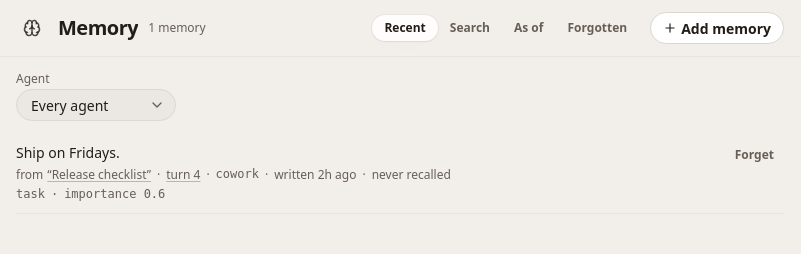
Test: forgetting › offers Undo, which restores the memory
This screenshot has width=801, height=254.
Click the button with aria-label "Forget “".
click(754, 155)  # box x1=725 y1=143 x2=784 y2=167
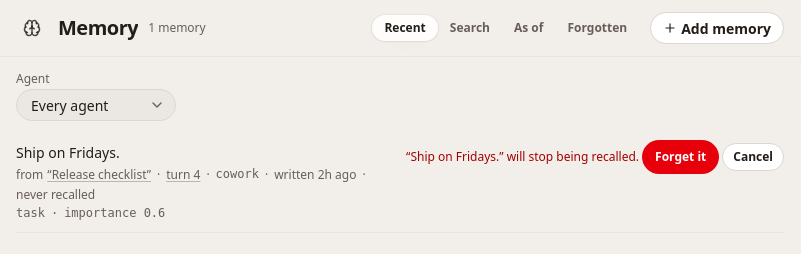
Click the button "Forget it".
click(681, 157)  # box x1=645 y1=143 x2=716 y2=171
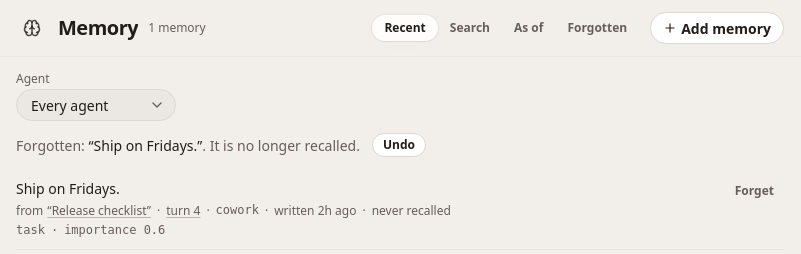
Now the text "Forgotten: “Ship on Fridays.”. It is no longer recalled." is shown, box x1=16 y1=134 x2=360 y2=156
Click the button "Undo".
click(399, 145)  # box x1=372 y1=133 x2=426 y2=157
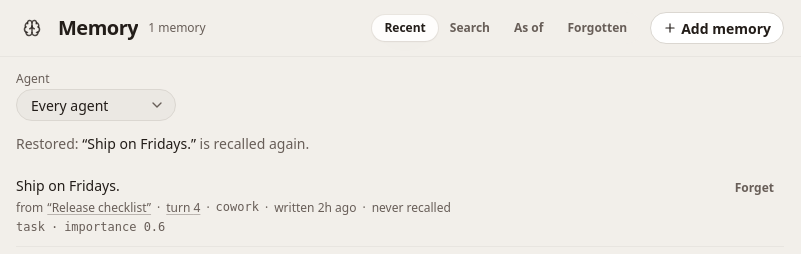
Now the text "Restored: “Ship on Fridays.” is recalled again." is shown, box x1=16 y1=133 x2=309 y2=154
